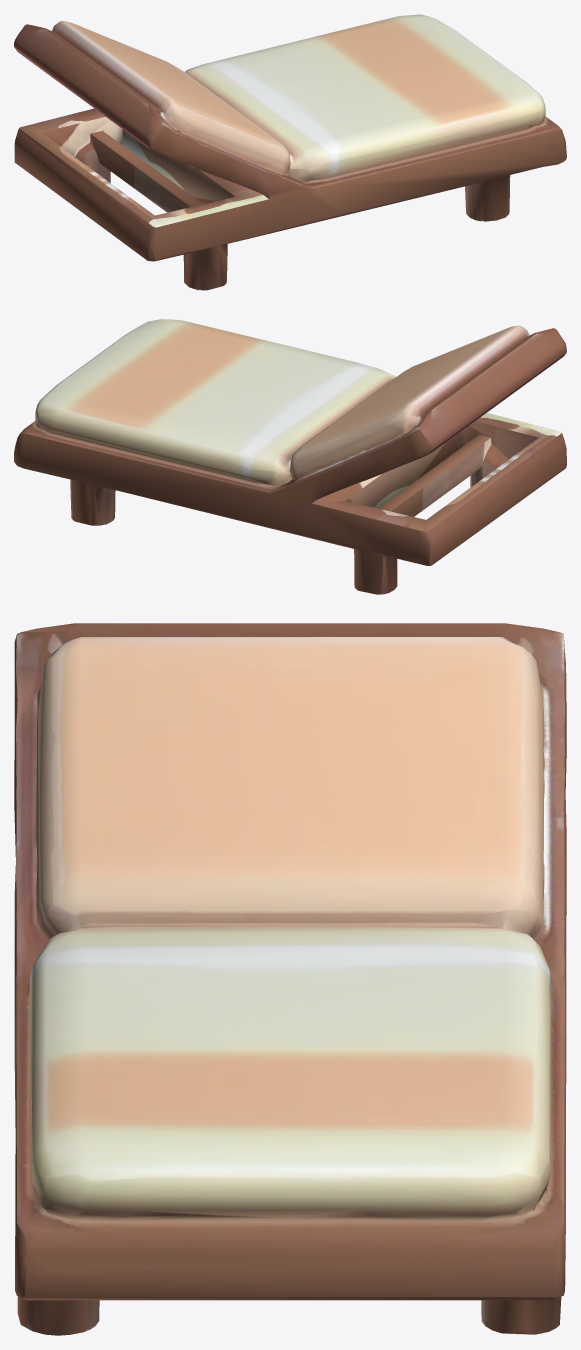
The model's file is chair.glb.
The picture shows the model from 3 angles, top to bottom: view 1: azimuth 30°, elevation 25°; view 2: azimuth 150°, elevation 25°; view 3: azimuth 270°, elevation 25°; orthographic projection. The views are drawn at different scales.
Visible parts, largest first — view 1: tmpk8vt35jk.ply; view 2: tmpk8vt35jk.ply; view 3: tmpk8vt35jk.ply.
Part boxes in pixels (x1,y1,x2,y2): tmpk8vt35jk.ply: (14,14,566,290); tmpk8vt35jk.ply: (14,319,566,594); tmpk8vt35jk.ply: (14,623,566,1335).
Bounding box in the file's own units: 0.9862 × 0.4212 × 0.5617.
1 material, 1 textured.
